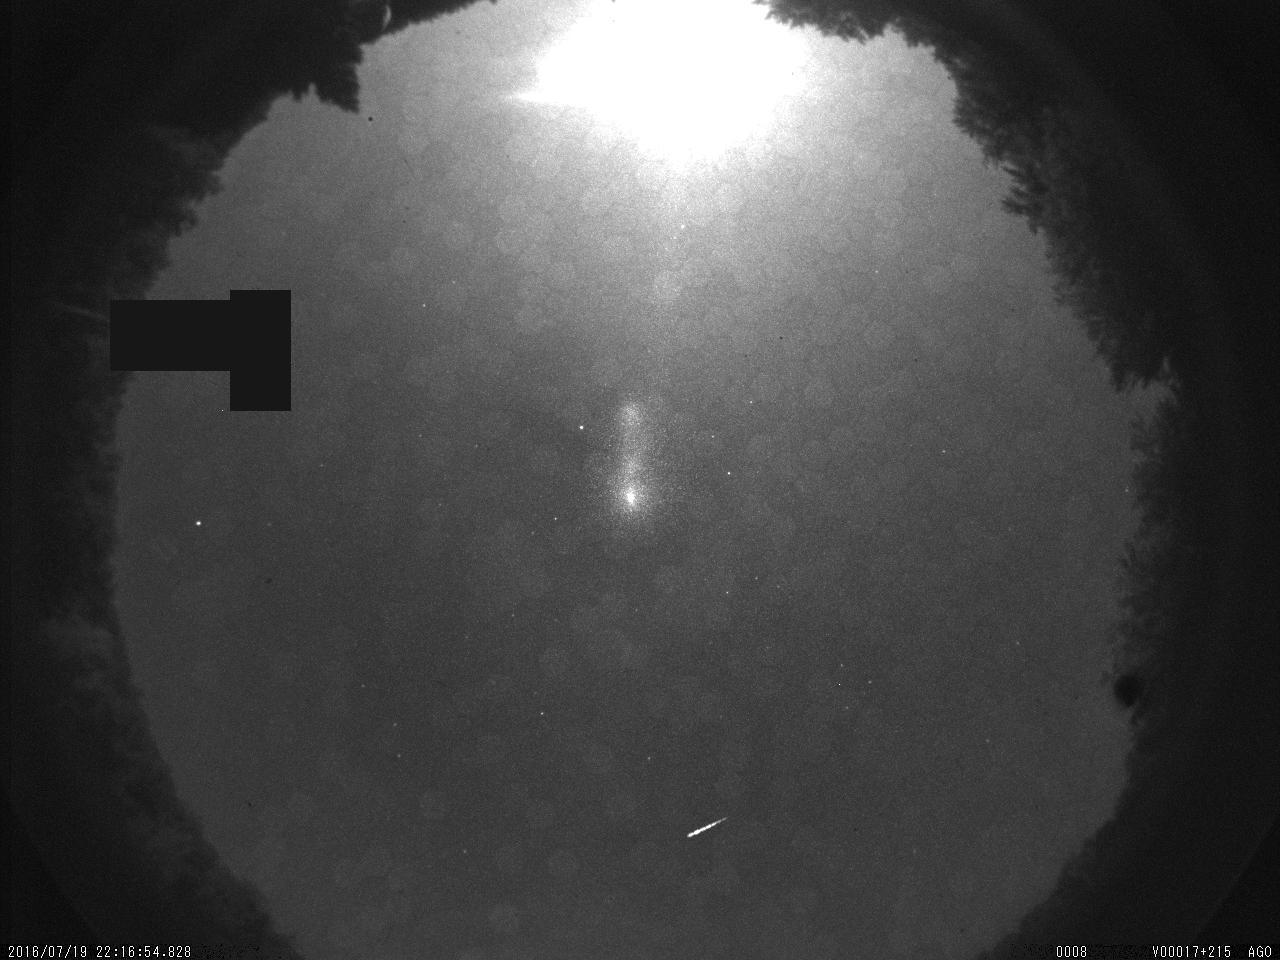Meteor: (684, 812, 730, 841)
